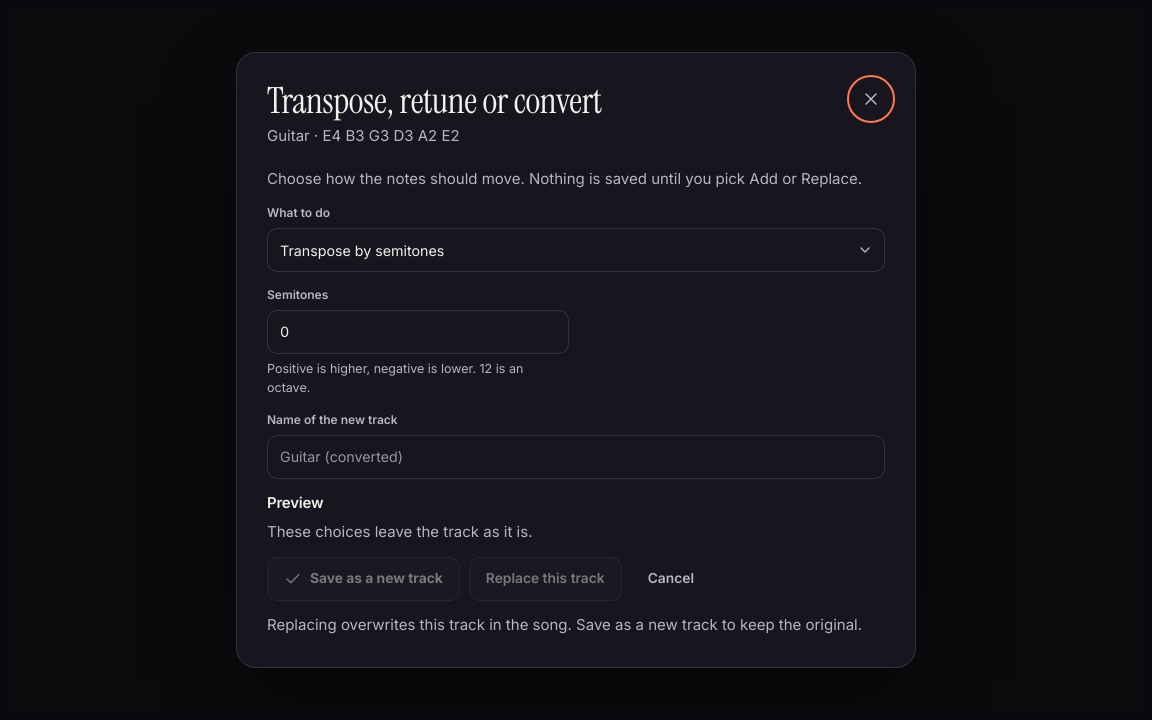
Scenario: RetuneSheet › shows a server error and stays open
Replace the text in the number field with test id "retune-semitones" with "2" at point(418, 332), box [267, 310, 568, 354]
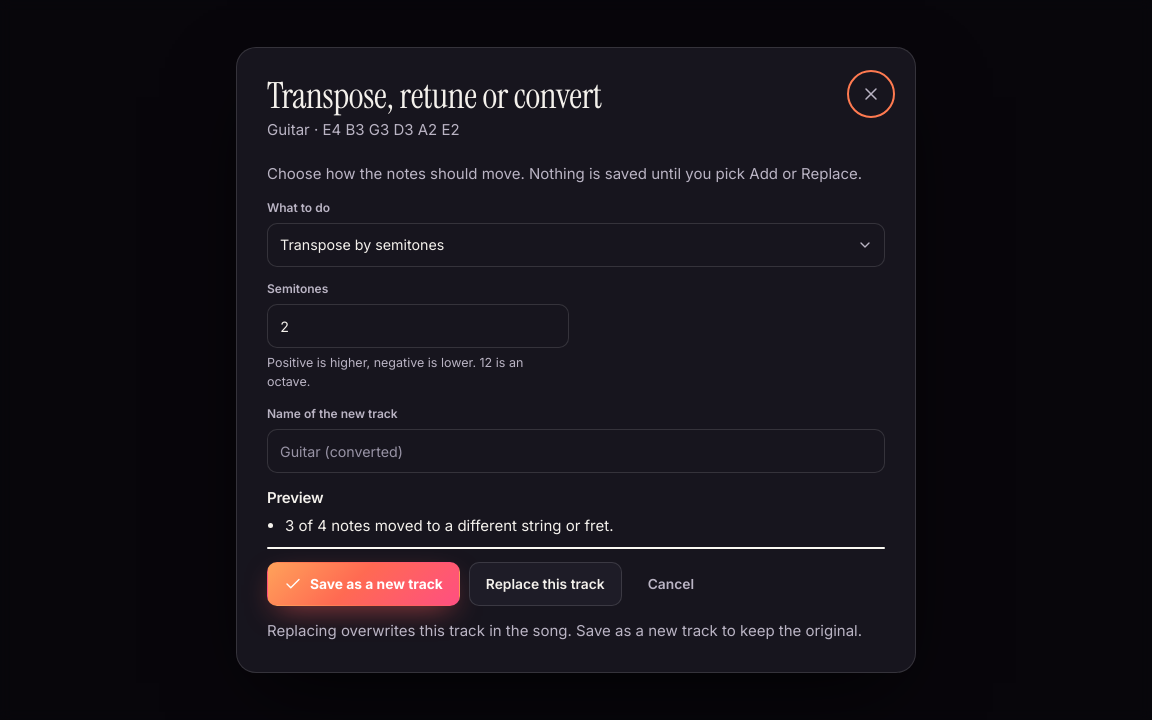
Check: the button with test id "retune-add" is enabled
Click the button with test id "retune-add" at point(363, 584), box [267, 562, 460, 606]
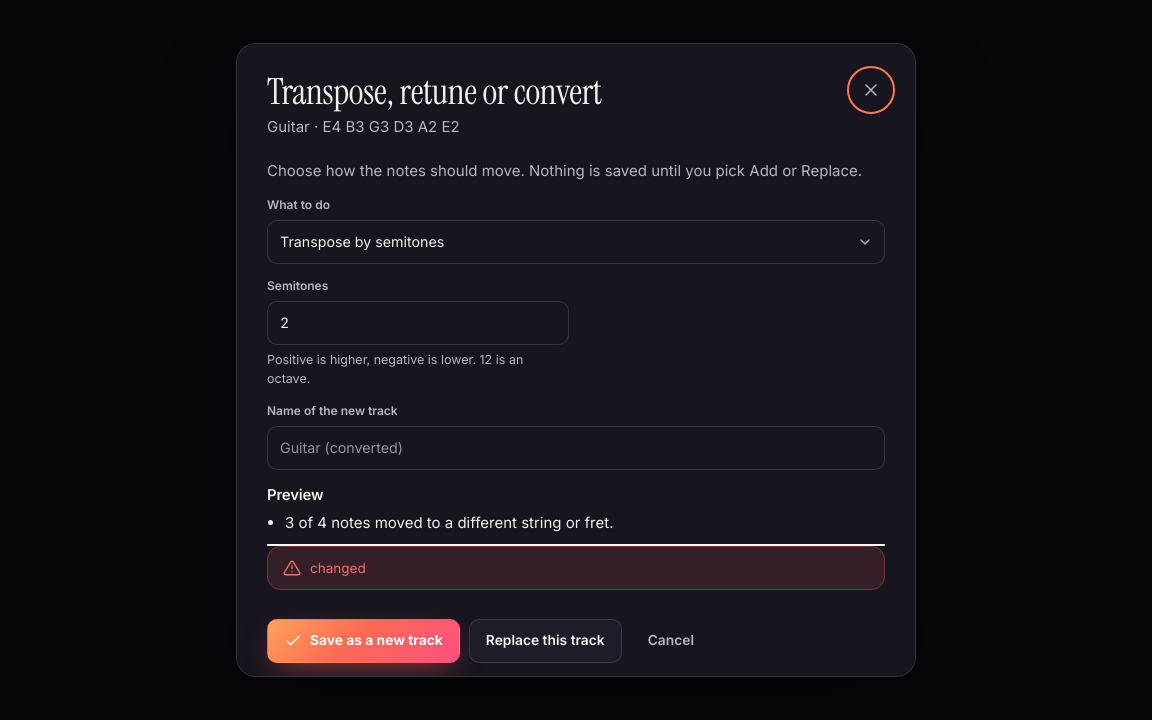
Check: the message "changed" is shown, box [267, 546, 885, 590]
